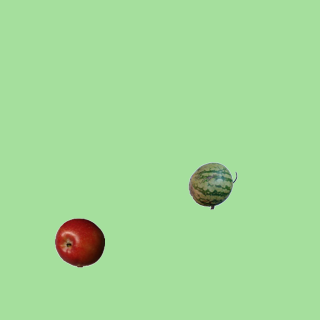Apple Braeburn: (54, 217, 104, 267)
Watermelon: (187, 160, 237, 210)
